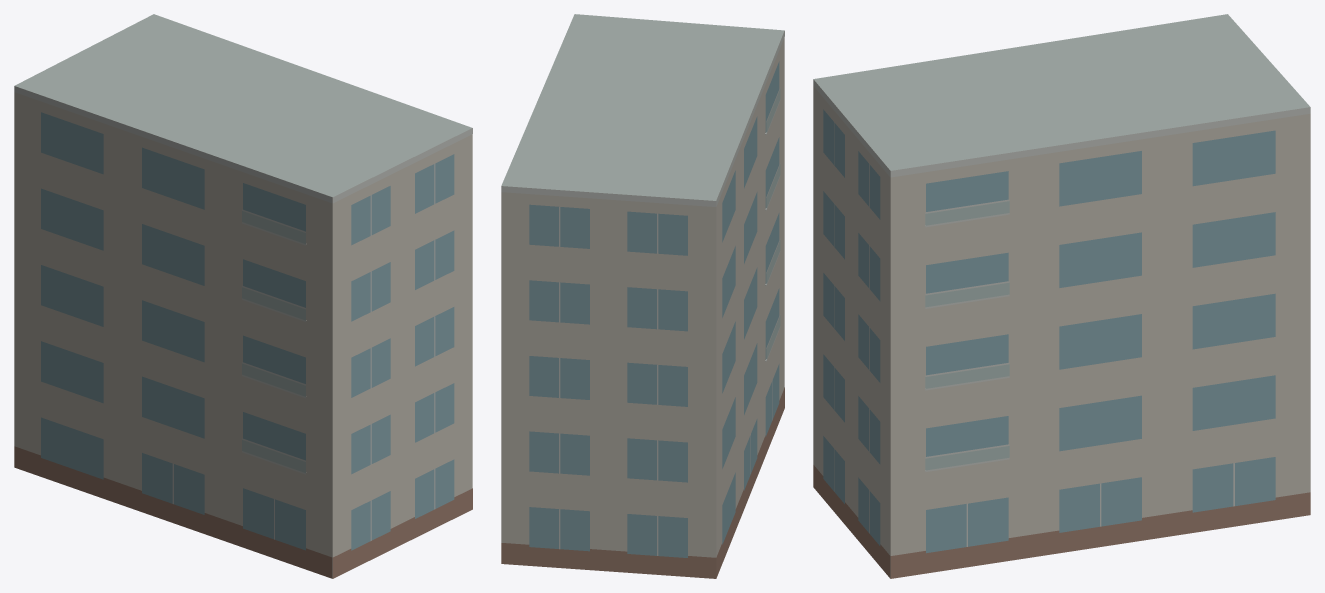
File: survey-upis-32960231.glb
3 renders of one model, left to right at view 1: azimuth 30°, elevation 25°; view 2: azimuth 150°, elevation 25°; view 3: azimuth 270°, elevation 25°, orthographic. The views are drawn at different scales.
Parts seen in each view (by area): view 1: survey-upis-32960231.tmp; view 2: survey-upis-32960231.tmp; view 3: survey-upis-32960231.tmp.
Part boxes in pixels (x1,y1,x2,y2): survey-upis-32960231.tmp: (14,14,472,578); survey-upis-32960231.tmp: (501,14,784,578); survey-upis-32960231.tmp: (813,14,1310,578).
Size of the model in its own units: 12.42 by 15.04 by 16.63.
